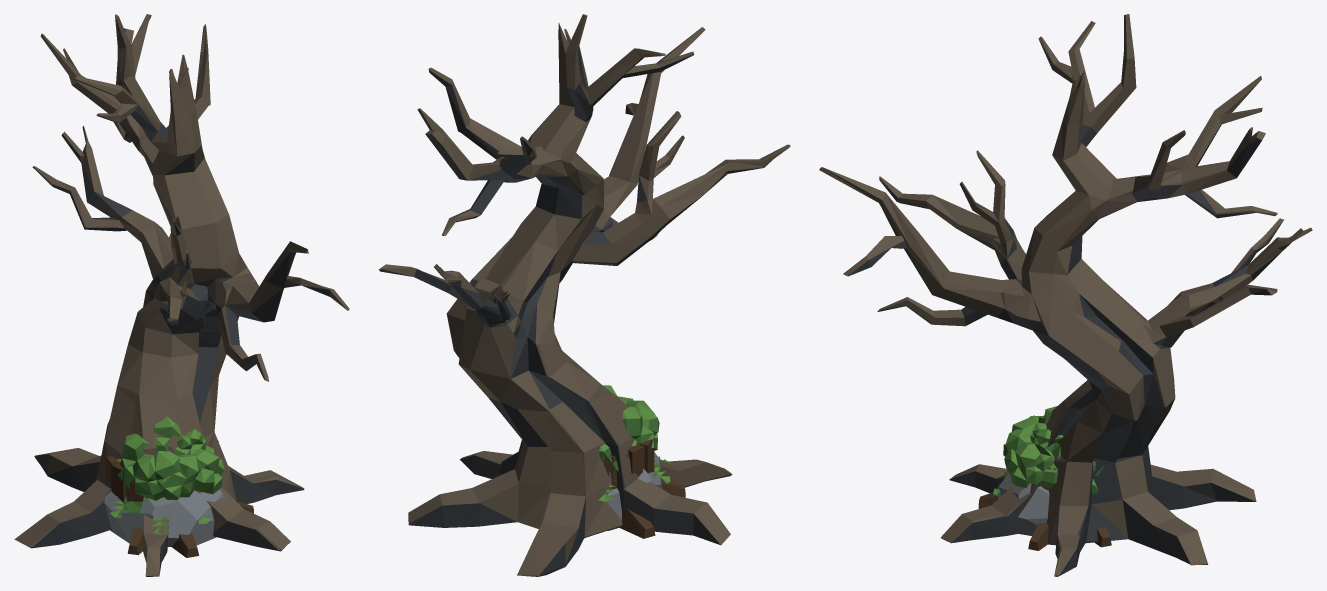
The model's file is props.glb.
3 views of the same model, side by side, from view 1: azimuth 30°, elevation 25°; view 2: azimuth 150°, elevation 25°; view 3: azimuth 270°, elevation 25° (orthographic). The views are drawn at different scales.
Visible parts, largest first — view 1: prop_deadtree, prop_shrub, prop_mossrock, prop_stump, prop_fern; view 2: prop_deadtree, prop_stump, prop_shrub, prop_mossrock; view 3: prop_deadtree, prop_shrub, prop_mossrock, prop_stump.
Boxes of the visible parts, x1,y1,x2,y2 form: prop_deadtree: (14, 14, 349, 576); prop_shrub: (117, 416, 224, 500); prop_mossrock: (104, 488, 224, 546); prop_stump: (106, 456, 253, 557); prop_fern: (110, 496, 211, 534); prop_deadtree: (378, 14, 790, 576); prop_stump: (603, 438, 685, 538); prop_shrub: (598, 385, 659, 471); prop_mossrock: (606, 452, 662, 530); prop_deadtree: (819, 14, 1312, 576); prop_shrub: (1003, 406, 1103, 493); prop_mossrock: (997, 472, 1049, 535); prop_stump: (978, 467, 1111, 550).
Size of the model in its own units: 2.8 by 4.88 by 4.43.
